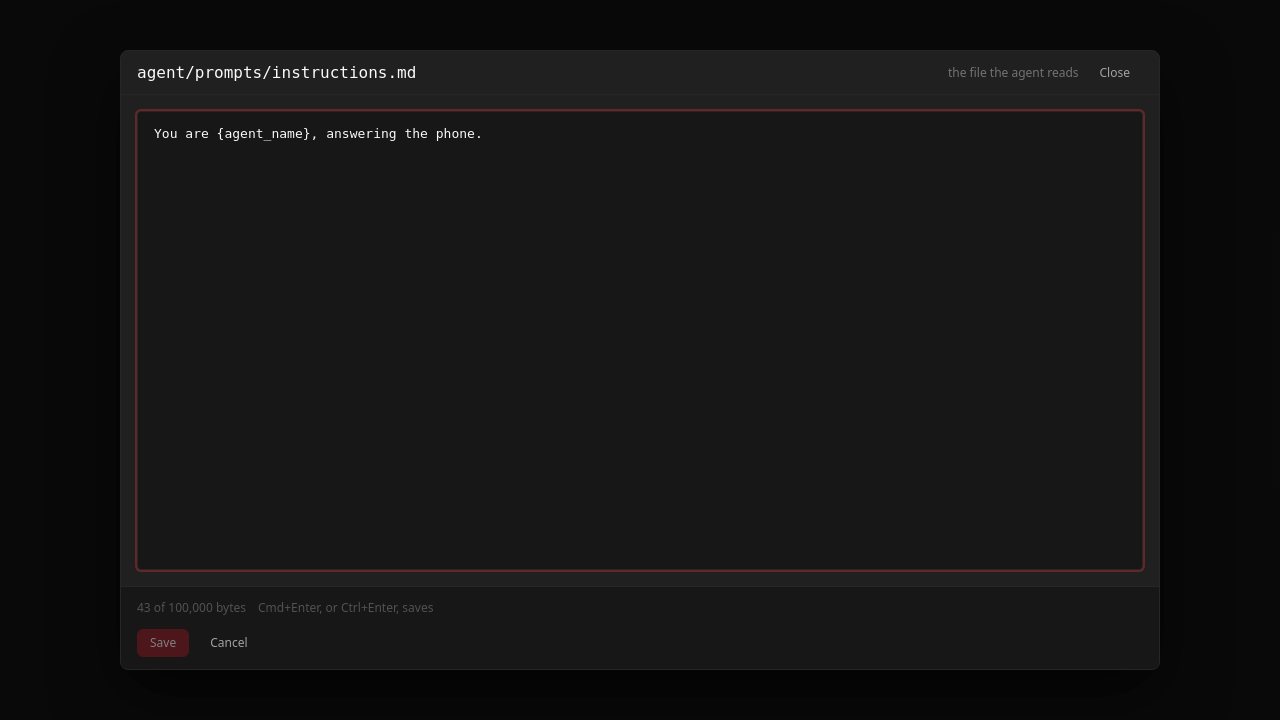
Test: PromptDialog › shows the backend's own sentence when a save is refused
The image size is (1280, 720).
Replace the text in the text box named "system prompt" with "Rewritten.": coordinates (640, 341) [137,111,1143,570]
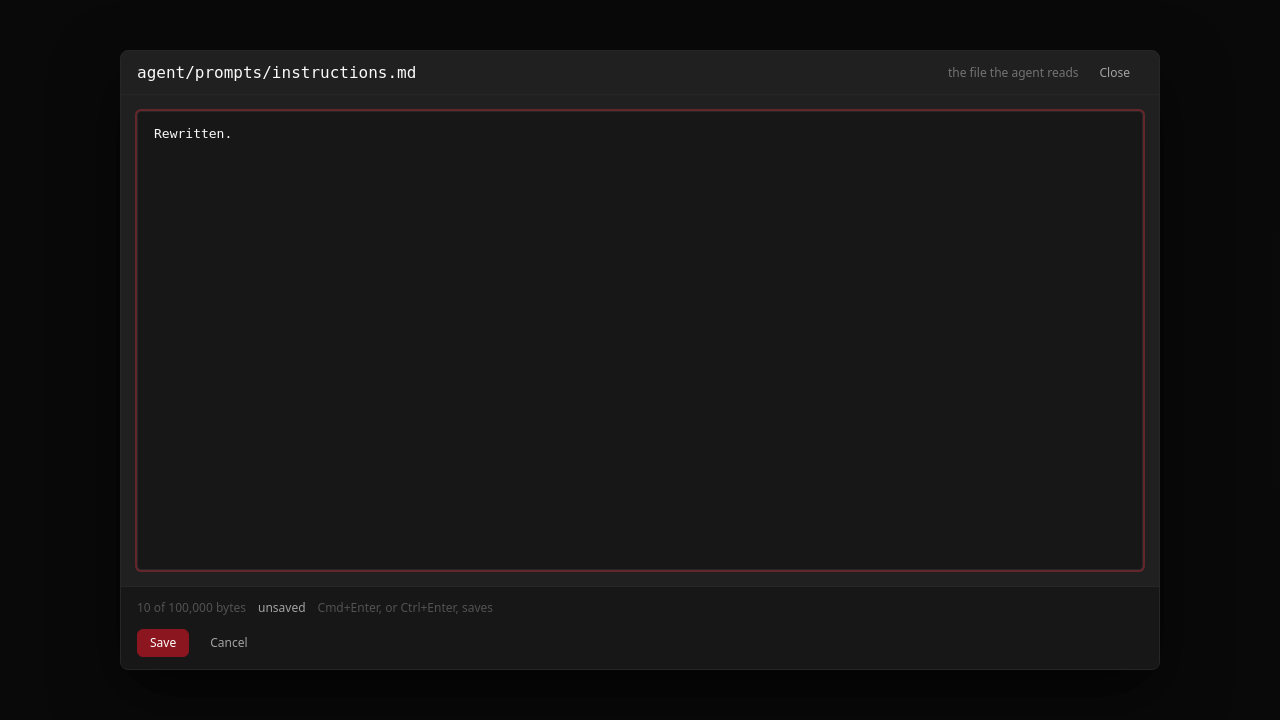
Click the button "Save": coordinates (163, 643) [137,629,189,657]
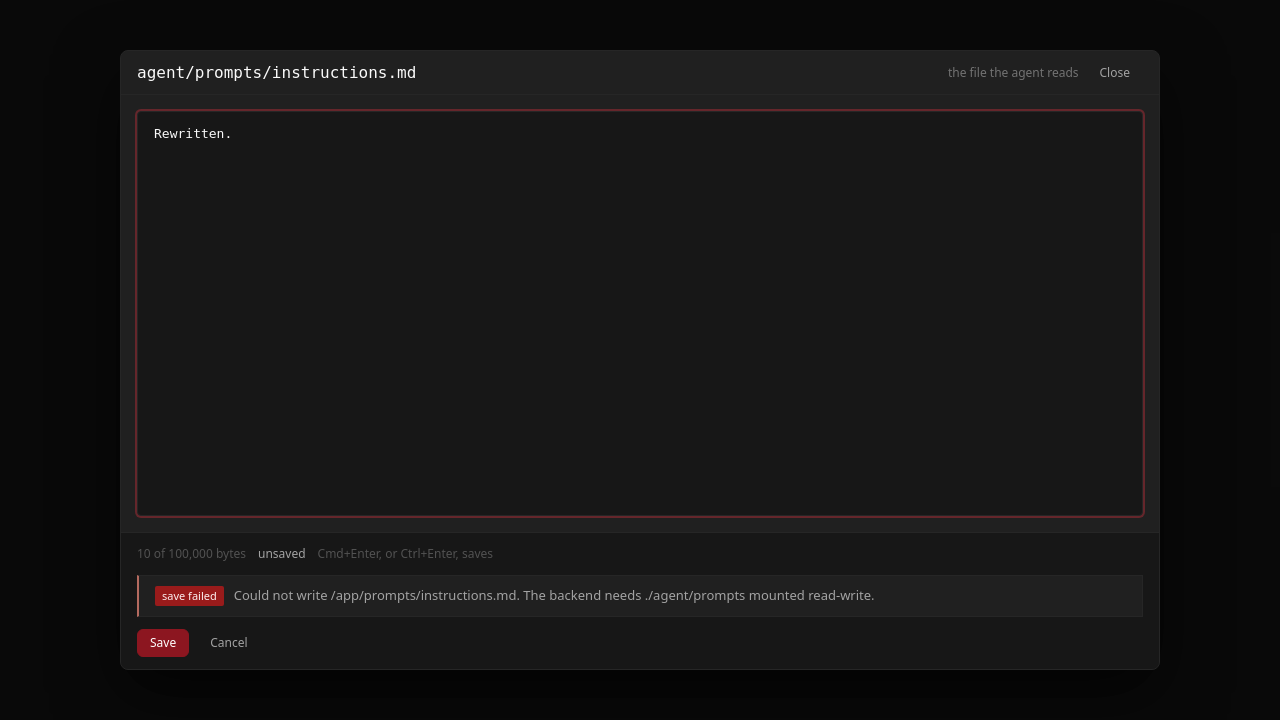
Expected: the message shows "/app/prompts/instructions.md", [234,586,875,604]
